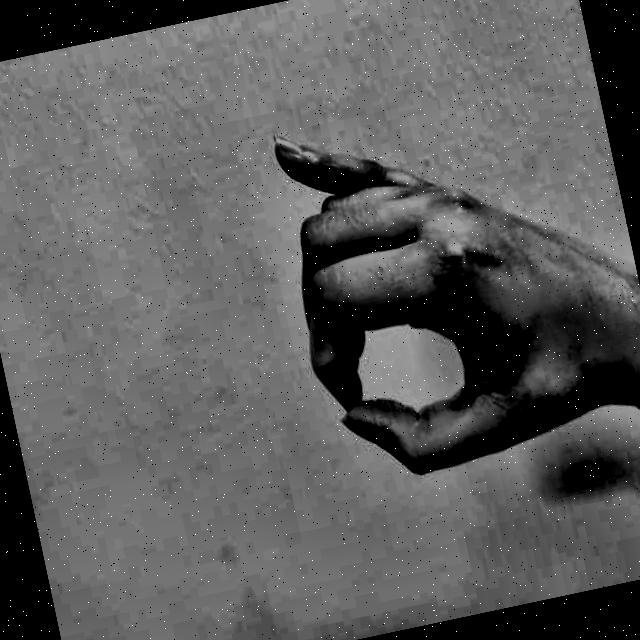Ou: (237, 44, 636, 538)
